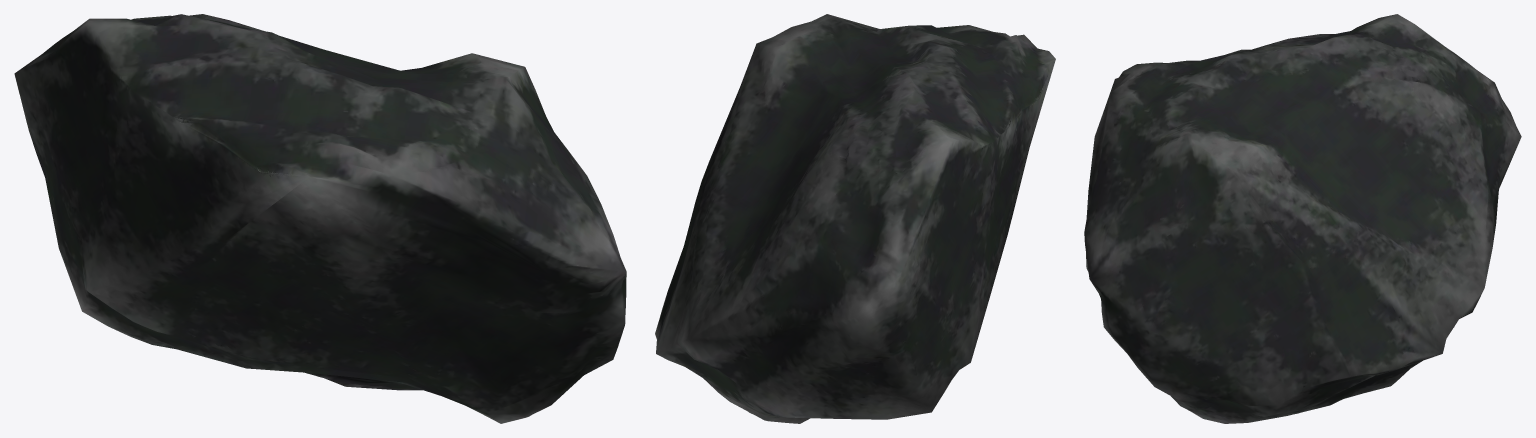
Rendered from rockDemo_07.glb.
3 renders of one model, left to right at view 1: azimuth 30°, elevation 25°; view 2: azimuth 150°, elevation 25°; view 3: azimuth 270°, elevation 25°, orthographic. The views are drawn at different scales.
Visible parts, largest first — view 1: Rock_07; view 2: Rock_07; view 3: Rock_07.
Part boxes in pixels (x1=…): Rock_07: x1=14, y1=14, x2=626, y2=423; Rock_07: x1=655, y1=14, x2=1055, y2=423; Rock_07: x1=1084, y1=14, x2=1521, y2=423.
Bounding box in the file's own units: 0.4341 × 0.4191 × 0.5508.
Materials: 1 (1 with a texture image).
